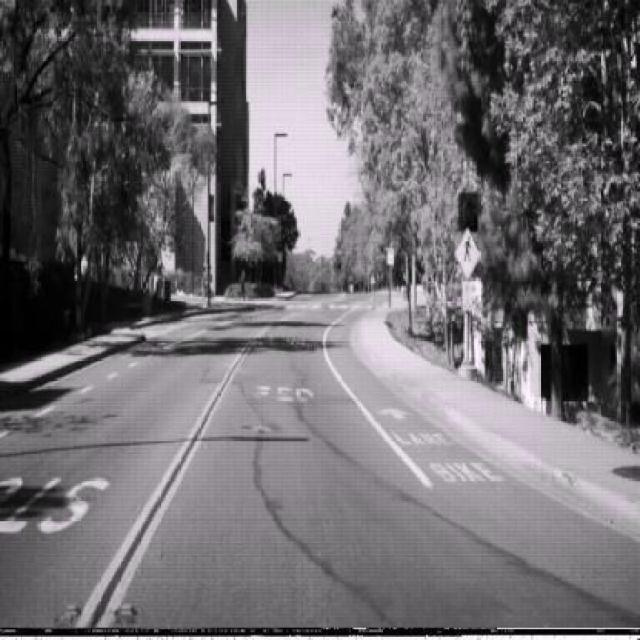pedestrianCrossing: (454, 226, 481, 280)
